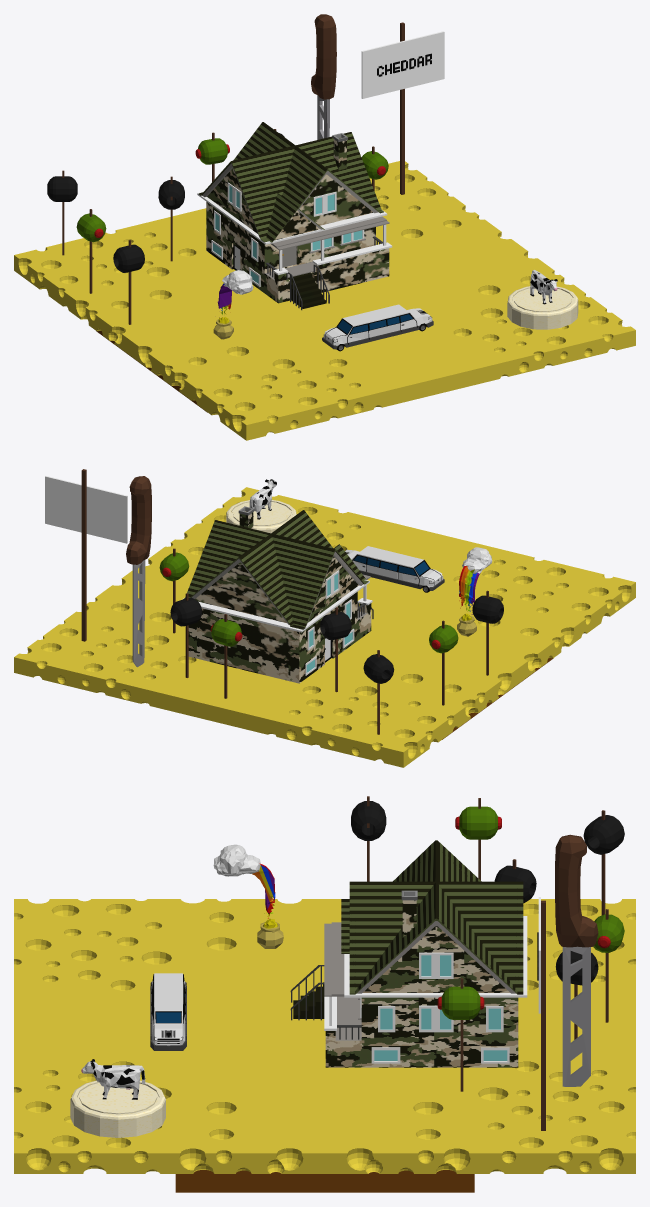
3 renders of one model, top to bottom at view 1: azimuth 30°, elevation 25°; view 2: azimuth 150°, elevation 25°; view 3: azimuth 270°, elevation 25°, orthographic. The views are drawn at different scales.
Visible parts, largest first — view 1: Cube.022, Cube.001, Cube.023, VEHICLES_LIMOUSINE, Cylinder.016, Cube.024, OBJRANDOM_RAINBOW, Sphere.017, Sphere.016, Sphere.018, Sphere.020, Sphere.022 (+1 smaller); view 2: Cube.022, Cube.001, Cube.023, Cube.024, VEHICLES_LIMOUSINE, OBJRANDOM_RAINBOW, Cylinder.016, Sphere.021, Sphere.022, Sphere.020, Sphere.017, Sphere.016 (+3 smaller); view 3: Cube.022, Cube.001, Cube.024, UNDERGROUND_ART_PIECE_VAN_GOGH, Cylinder.016, VEHICLES_LIMOUSINE, OBJRANDOM_RAINBOW, Sphere.019, Sphere.016, Cube.023, Sphere.018, ANIMAL_VACA (+4 smaller).
Part boxes in pixels (x1,y1,x2,y2): Cube.022: (14, 161, 635, 440); Cube.001: (197, 122, 392, 310); Cube.023: (361, 22, 444, 194); VEHICLES_LIMOUSINE: (322, 304, 433, 351); Cylinder.016: (507, 286, 578, 329); Cube.024: (311, 14, 336, 139); OBJRANDOM_RAINBOW: (213, 270, 253, 339); Sphere.017: (113, 240, 144, 324); Sphere.016: (47, 170, 77, 255); Sphere.018: (76, 209, 106, 293); Sphere.020: (158, 176, 184, 261); Sphere.022: (195, 132, 229, 181); Cube.022: (14, 487, 635, 767); Cube.001: (182, 506, 373, 683); Cube.023: (45, 469, 127, 641); Cube.024: (126, 476, 151, 667); VEHICLES_LIMOUSINE: (345, 546, 444, 592); OBJRANDOM_RAINBOW: (457, 547, 492, 636); Cylinder.016: (226, 500, 296, 533); Sphere.021: (170, 593, 202, 677); Sphere.022: (210, 614, 242, 698); Sphere.020: (320, 607, 351, 692); Sphere.017: (472, 590, 503, 675); Sphere.016: (363, 650, 394, 734); Cube.022: (14, 899, 635, 1173); Cube.001: (290, 840, 527, 1067); Cube.024: (555, 834, 598, 1086); UNDERGROUND_ART_PIECE_VAN_GOGH: (175, 1170, 474, 1192); Cylinder.016: (70, 1080, 165, 1137); VEHICLES_LIMOUSINE: (150, 973, 186, 1050); OBJRANDOM_RAINBOW: (213, 844, 283, 948); Sphere.019: (437, 978, 484, 1091); Sphere.016: (583, 810, 624, 915); Cube.023: (537, 897, 545, 1130); Sphere.018: (455, 798, 501, 880); ANIMAL_VACA: (81, 1059, 145, 1099).
Bounding box in the file's own units: 3917 × 2132 × 4000.
Materials: 40 (6 with a texture image).
